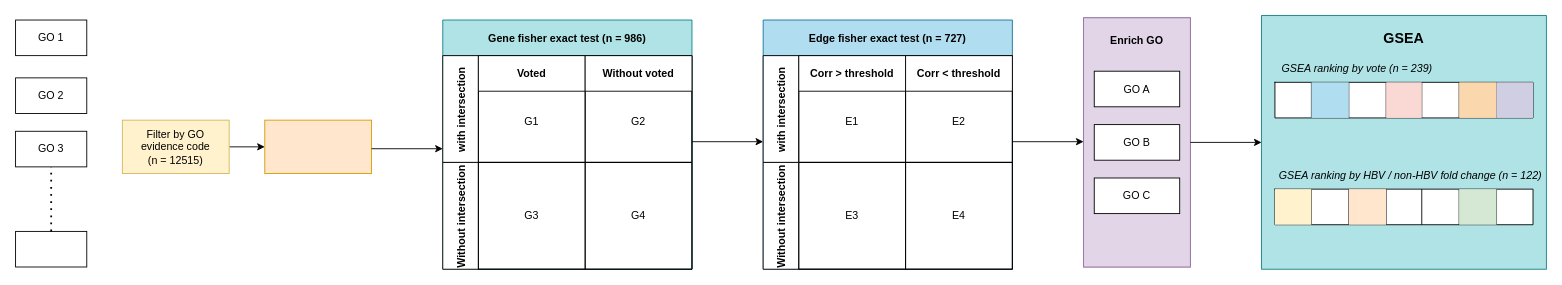
Some shapes in this 1562 by 285 pixel diagram are drawn without their labels. Here are the shapes that lost their labels. From the top down, the centre of each, then its label:
point 318,146: Filter by GO level (n = 8406)
point 51,249: GO N
